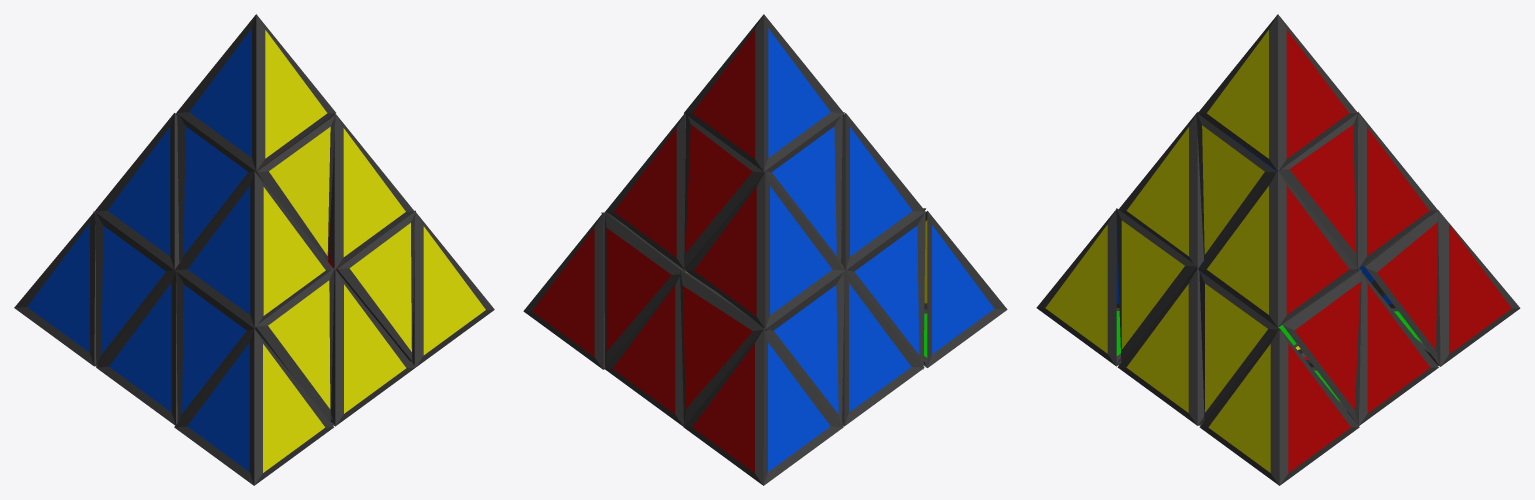
File: pyraminx.fbx
3 renders of one model, left to right at view 1: azimuth 30°, elevation 25°; view 2: azimuth 150°, elevation 25°; view 3: azimuth 270°, elevation 25°, orthographic.
Parts seen in each view (by area): view 1: pyraminx; view 2: pyraminx; view 3: pyraminx.
Boxes of the visible parts, bbox=[...] form: pyraminx: bbox=[14, 14, 494, 485]; pyraminx: bbox=[523, 14, 1007, 485]; pyraminx: bbox=[1036, 14, 1520, 485].
Bounding box in the file's own units: 25.76 × 24.17 × 29.8.
